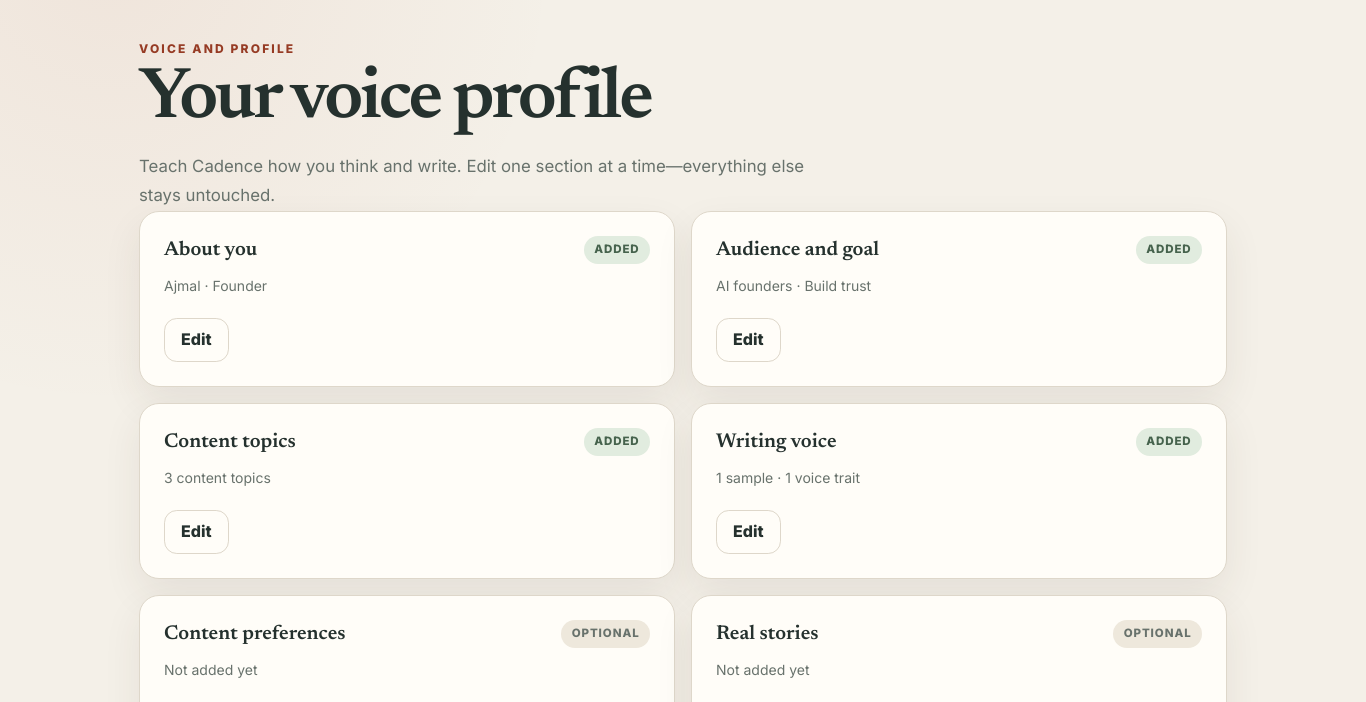
Test case: disables cancel while a section save is in flight
The width and height of the screenshot is (1366, 702).
Click the button with aria-label "Edit Content topics".
click(196, 532)  # box [164,510,229,554]
(page scrolled)
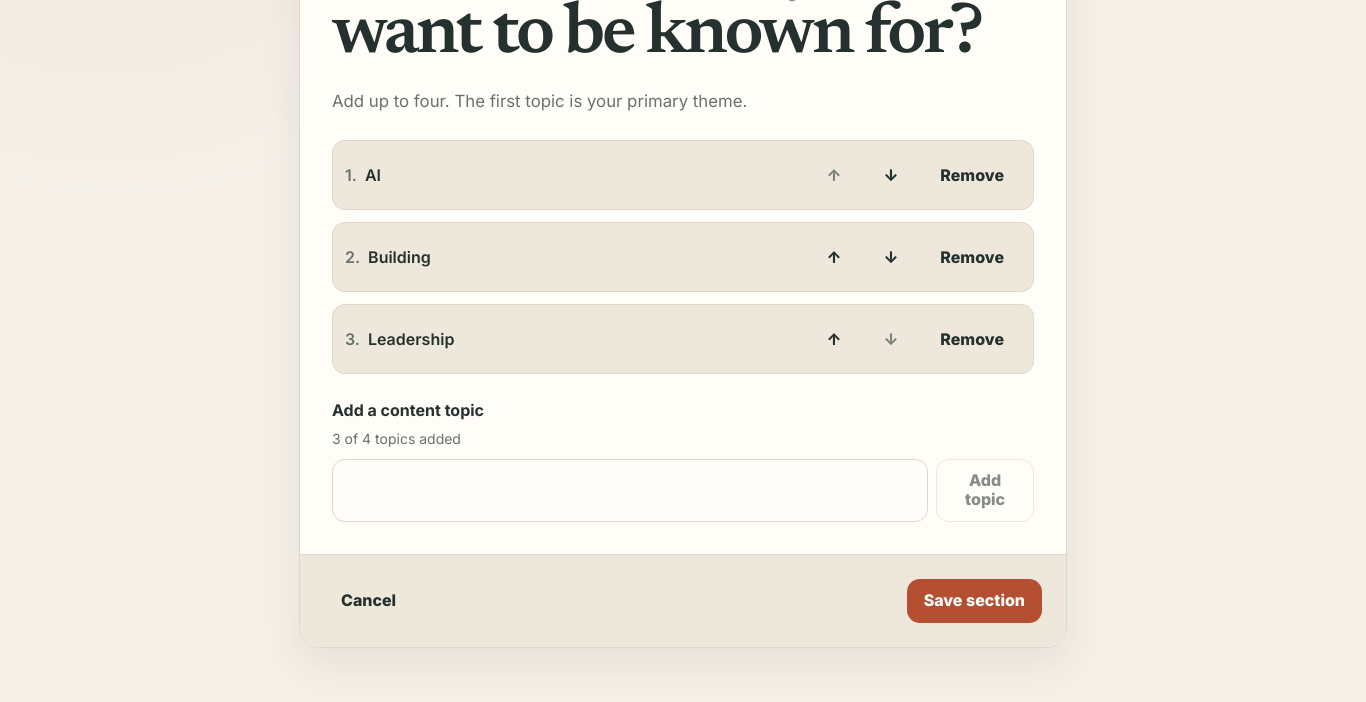
Click the button "Save section".
click(974, 601)  # box [907,579,1042,623]
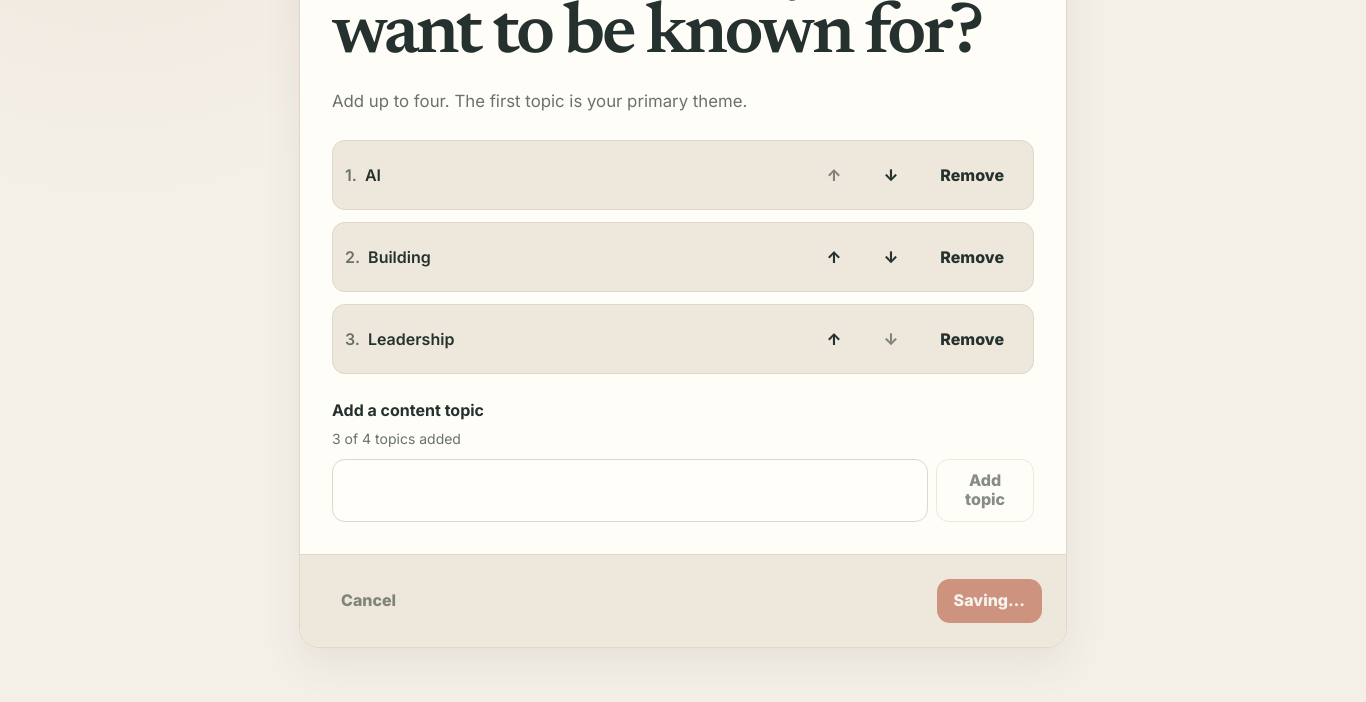
Now the button "Cancel" is disabled, box [324,579,413,623]
